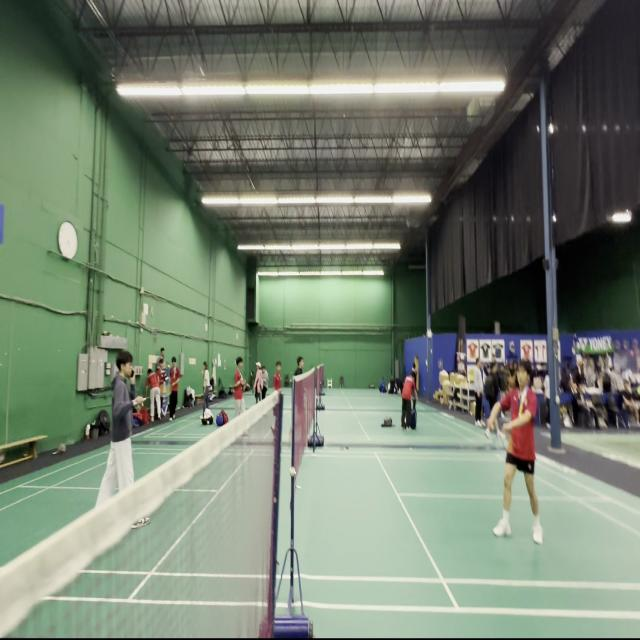shuttlecock: (501, 433, 506, 442)
